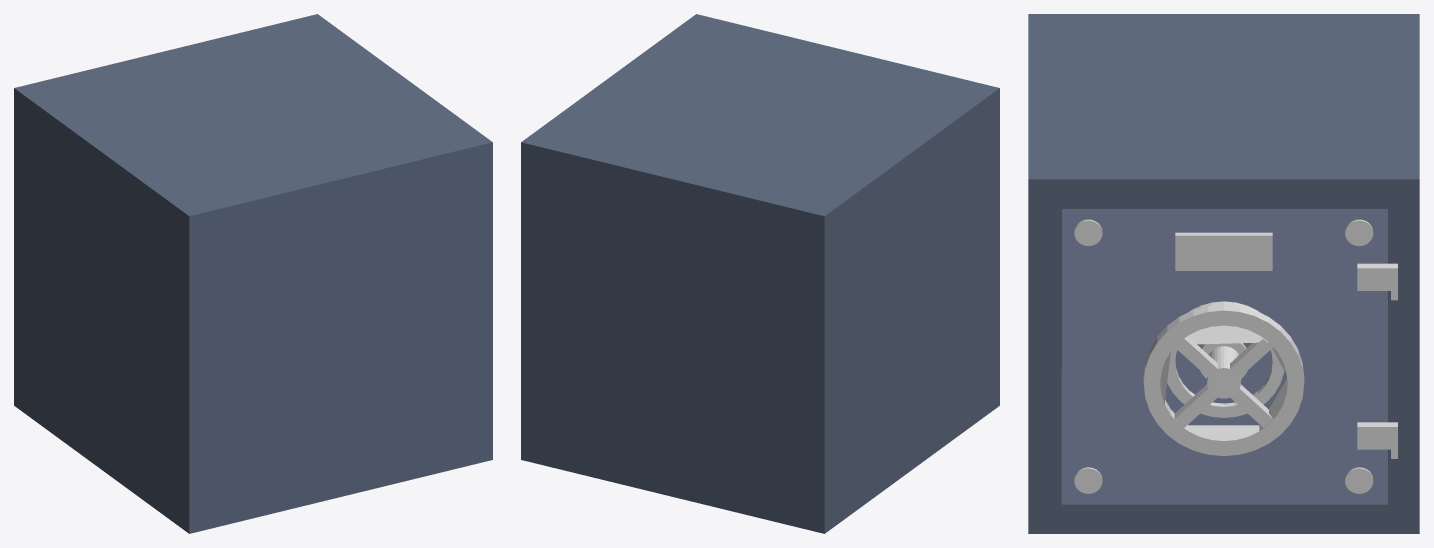
The model's file is safe-closed.fbx.
The picture shows the model from 3 angles, left to right: view 1: azimuth 30°, elevation 25°; view 2: azimuth 150°, elevation 25°; view 3: azimuth 270°, elevation 25°; orthographic projection. The views are drawn at different scales.
Parts seen in each view (by area): view 1: Cube; view 2: Cube; view 3: Cube, Plane, Cylinder.001, Cylinder, Cube.003, Cylinder.006, Cube.002.
Boxes of the visible parts, left/top/right/bottom form: Cube: left=14, top=14, right=492, bottom=533; Cube: left=521, top=14, right=999, bottom=533; Cube: left=1028, top=14, right=1419, bottom=533; Plane: left=1062, top=209, right=1387, bottom=504; Cylinder.001: left=1143, top=304, right=1304, bottom=455; Cylinder: left=1167, top=301, right=1283, bottom=417; Cube.003: left=1175, top=232, right=1272, bottom=270; Cylinder.006: left=1074, top=219, right=1373, bottom=493; Cube.002: left=1357, top=263, right=1397, bottom=458.
Size of the model in its own units: 4 by 3.45 by 3.45.
